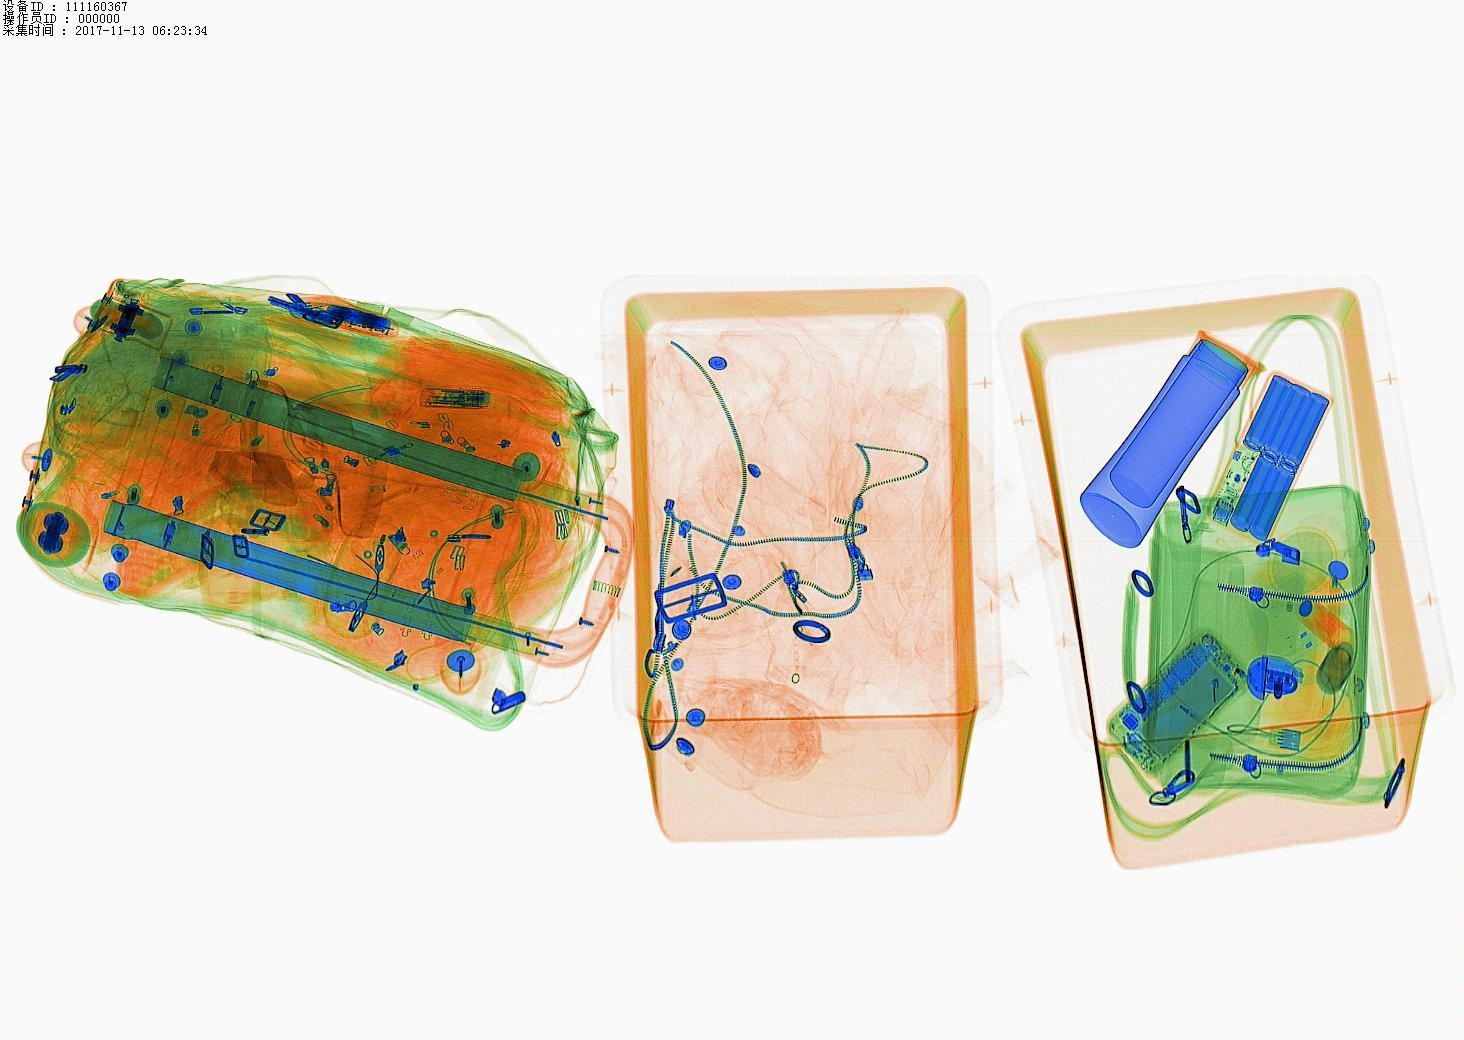core: (1232, 375, 1329, 546)
